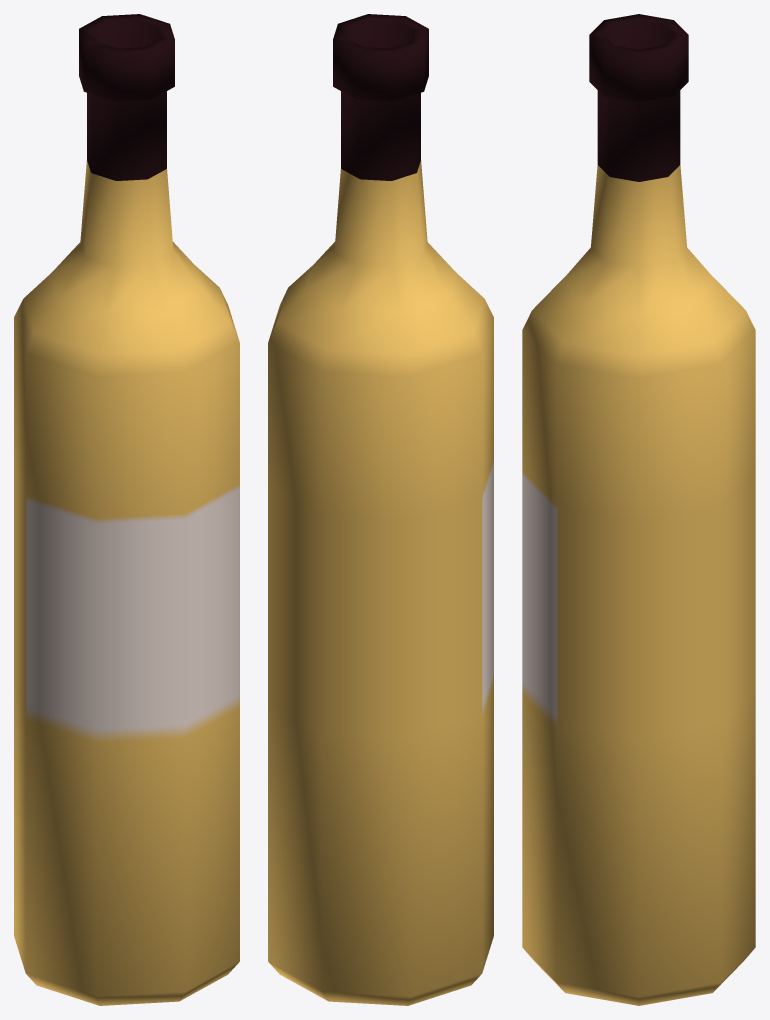
The model's file is white_wine.fbx.
3 renders of one model, left to right at view 1: azimuth 30°, elevation 25°; view 2: azimuth 150°, elevation 25°; view 3: azimuth 270°, elevation 25°, orthographic.
Parts seen in each view (by area): view 1: white_wine; view 2: white_wine; view 3: white_wine.
Part boxes in pixels (box(x1,y1,x2,y2)): white_wine: box(14, 14, 239, 1005); white_wine: box(268, 14, 493, 1005); white_wine: box(522, 14, 755, 1005).
Bounding box in the file's own units: 0.0501 × 0.2196 × 0.0501.
